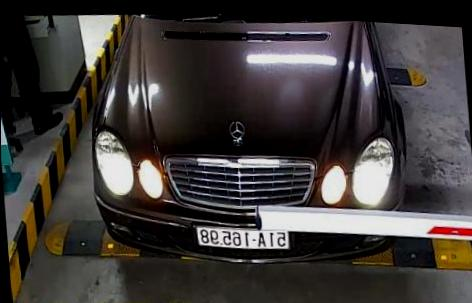License_Plate: (185, 217, 293, 260)
